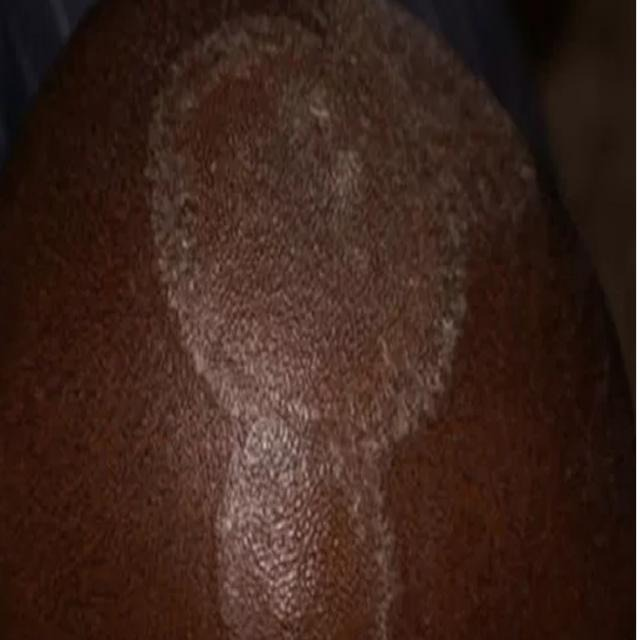Ringworm: (132, 0, 497, 467)
